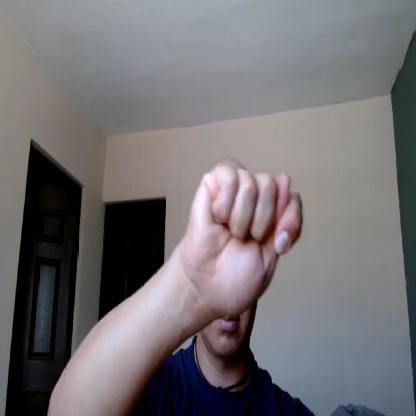T: (182, 162, 305, 314)
